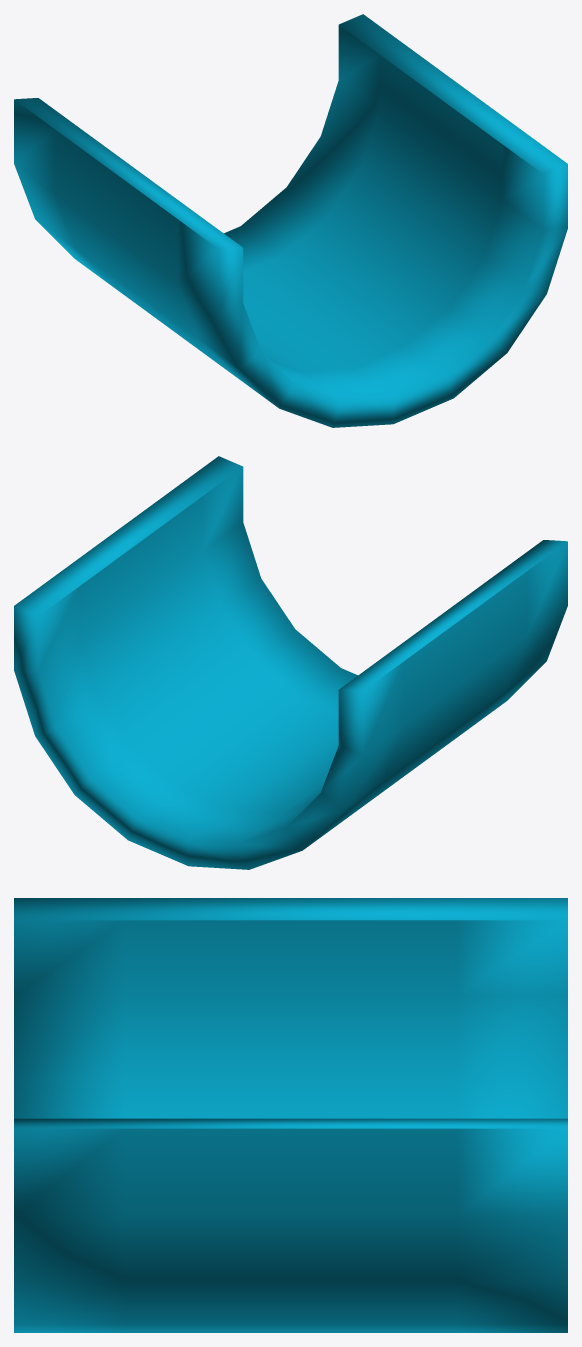
The picture shows the model from 3 angles, top to bottom: view 1: azimuth 30°, elevation 25°; view 2: azimuth 150°, elevation 25°; view 3: azimuth 270°, elevation 25°; orthographic projection. The views are drawn at different scales.
Visible parts, largest first — view 1: Tube01; view 2: Tube01; view 3: Tube01.
Boxes of the visible parts, x1=… form: Tube01: x1=14, y1=14, x2=567, y2=427; Tube01: x1=14, y1=456, x2=567, y2=869; Tube01: x1=14, y1=898, x2=567, y2=1332.
Bounding box in the file's own units: 77.54 × 78.74 × 46.21.
